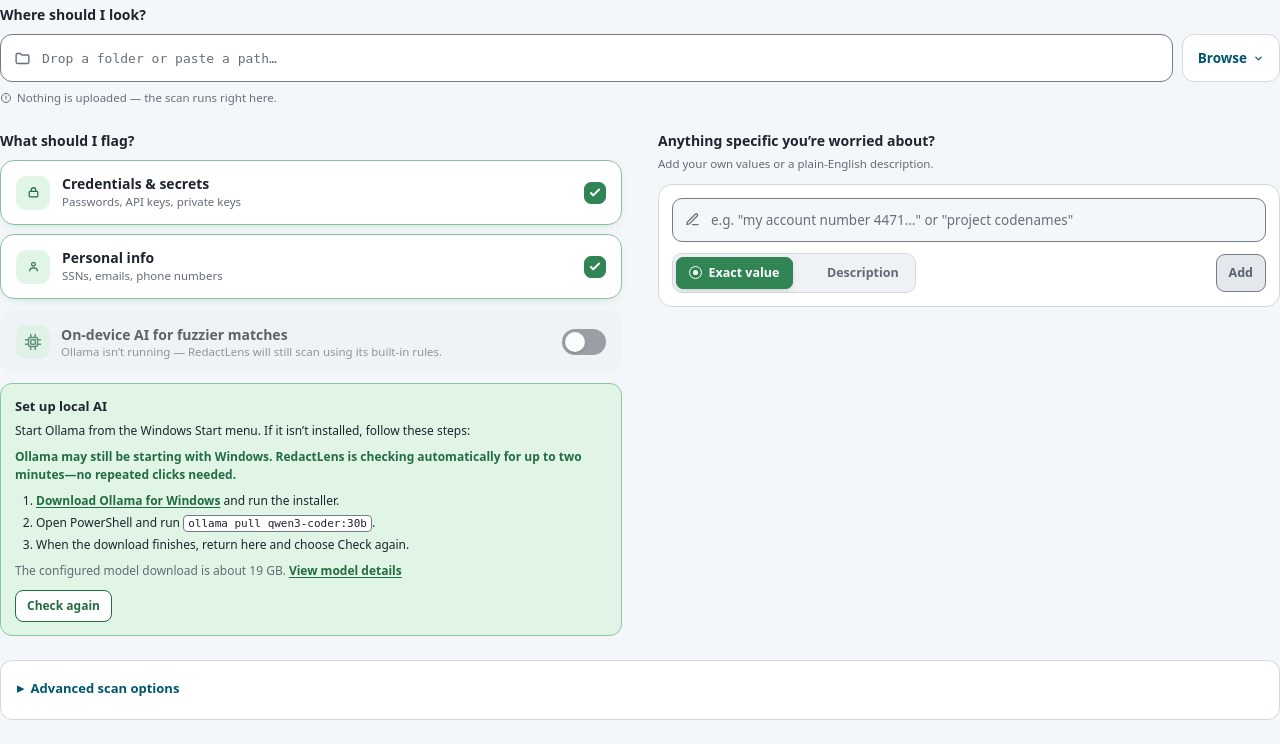
Test: SetupScreen › opens and closes advanced scan options as an accessible animated disclosure
(page scrolled)
What coordinates should you click on to do the following:
click the button "▸ Advanced scan options"
I would click on:
 (98, 688)
Its box is [17,660,179,714].
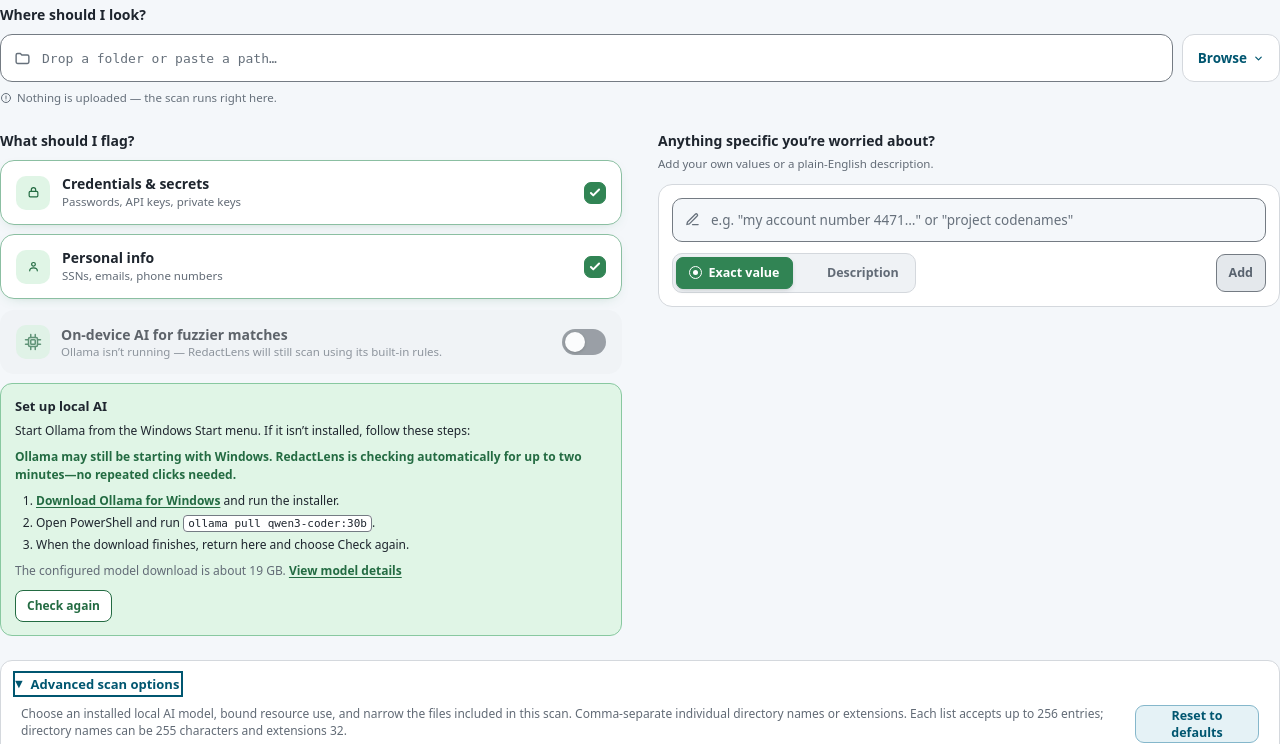
Result: the button "▸ Advanced scan options" is expanded
What coordinates should you click on to do the following:
click the button "▸ Advanced scan options"
I would click on:
 (98, 684)
Its box is [17,675,179,693].
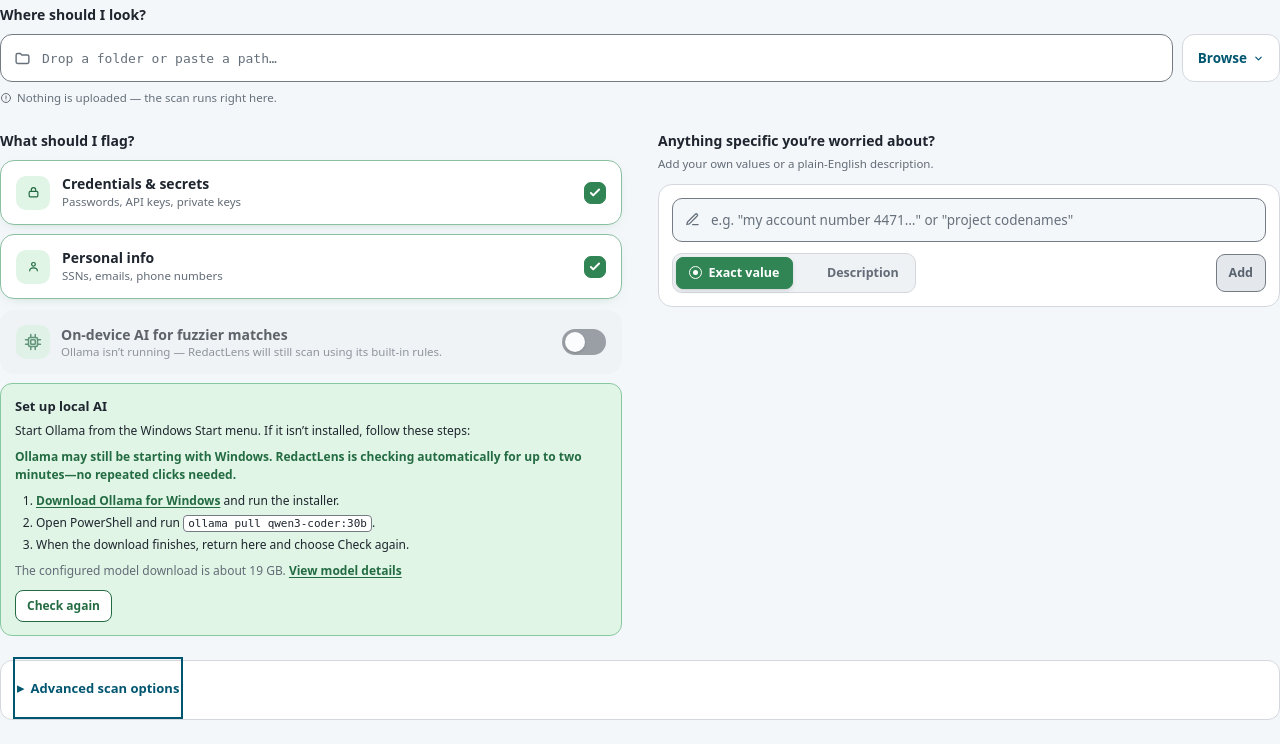
Result: the button "▸ Advanced scan options" is collapsed at [17,660,179,714]
